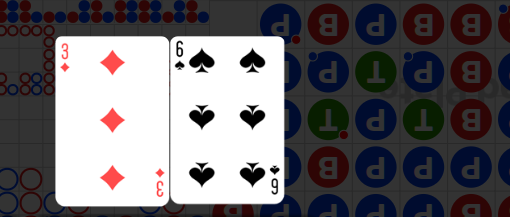3D: (59, 43, 71, 75)
6S: (268, 163, 281, 196)
